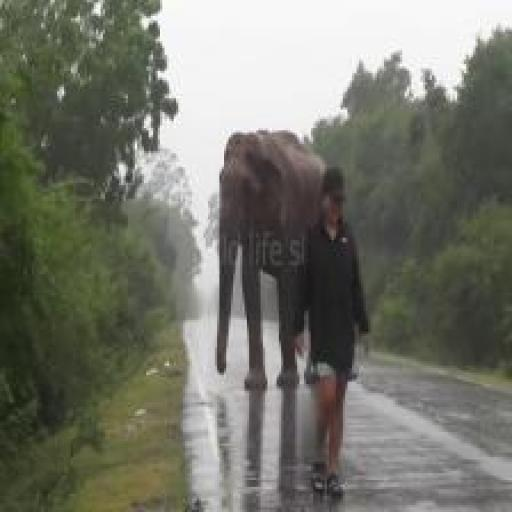Elephant: (210, 119, 293, 415)
